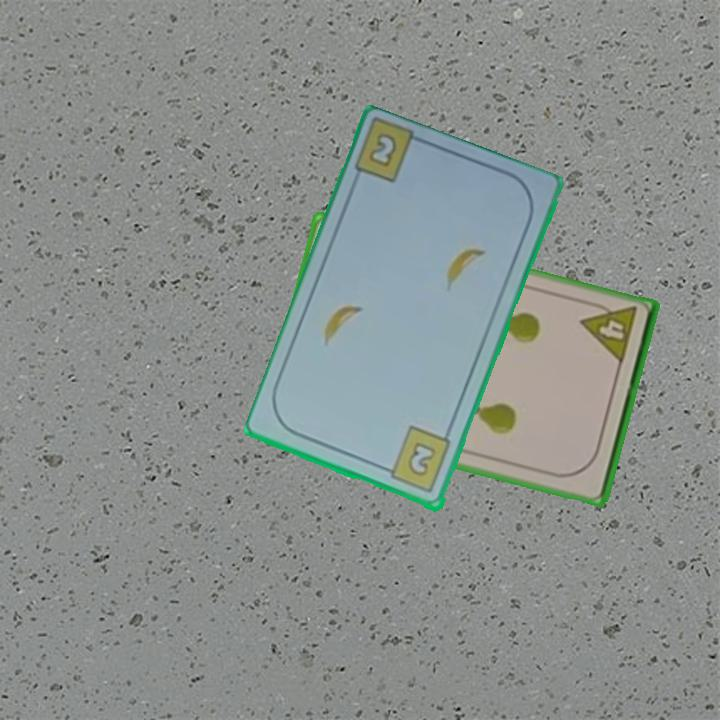2b: (379, 423, 454, 497), (365, 130, 400, 171)
4p: (577, 298, 640, 368)
